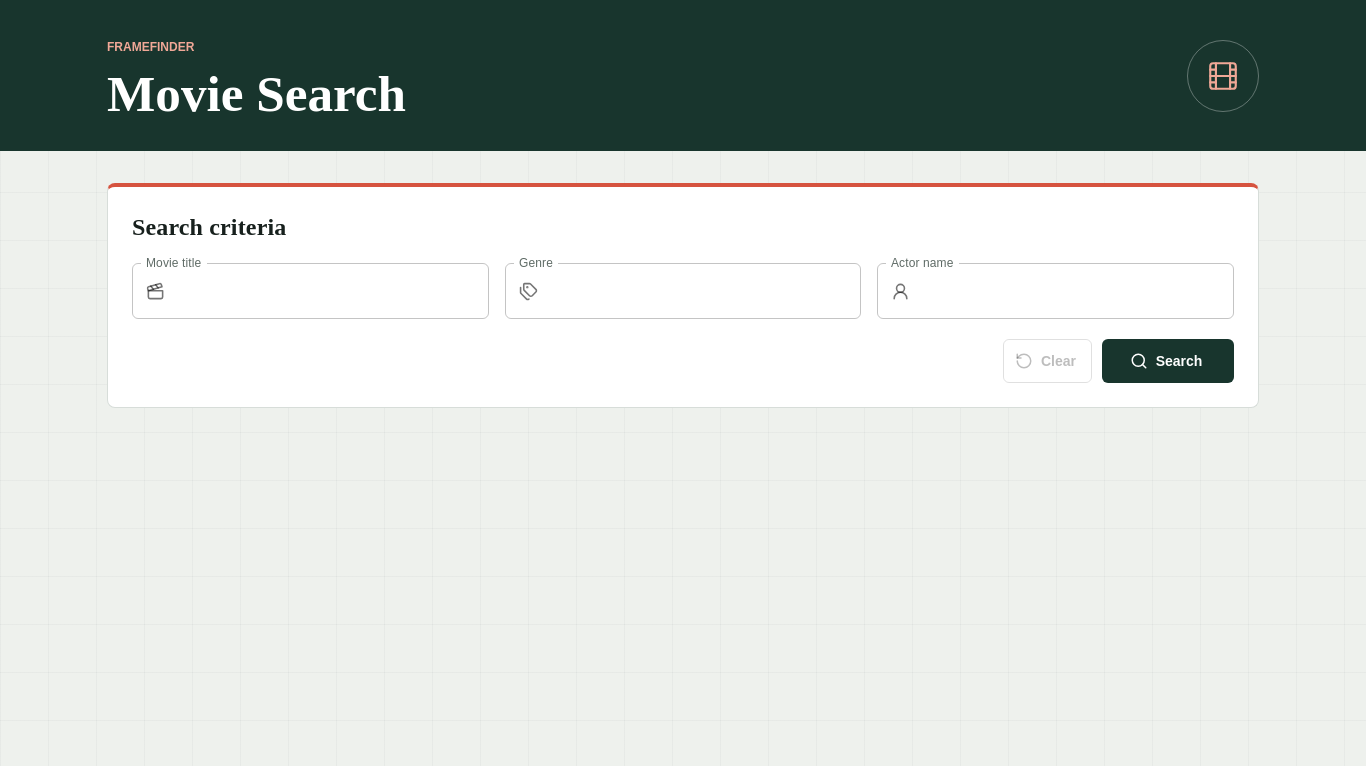
it: MovieSearchPage › recovers from a details error when another movie is selected
What coordinates should you click on to do the following:
click the button "Search"
I would click on:
 (1168, 361)
Its box is [1102,339,1234,383].
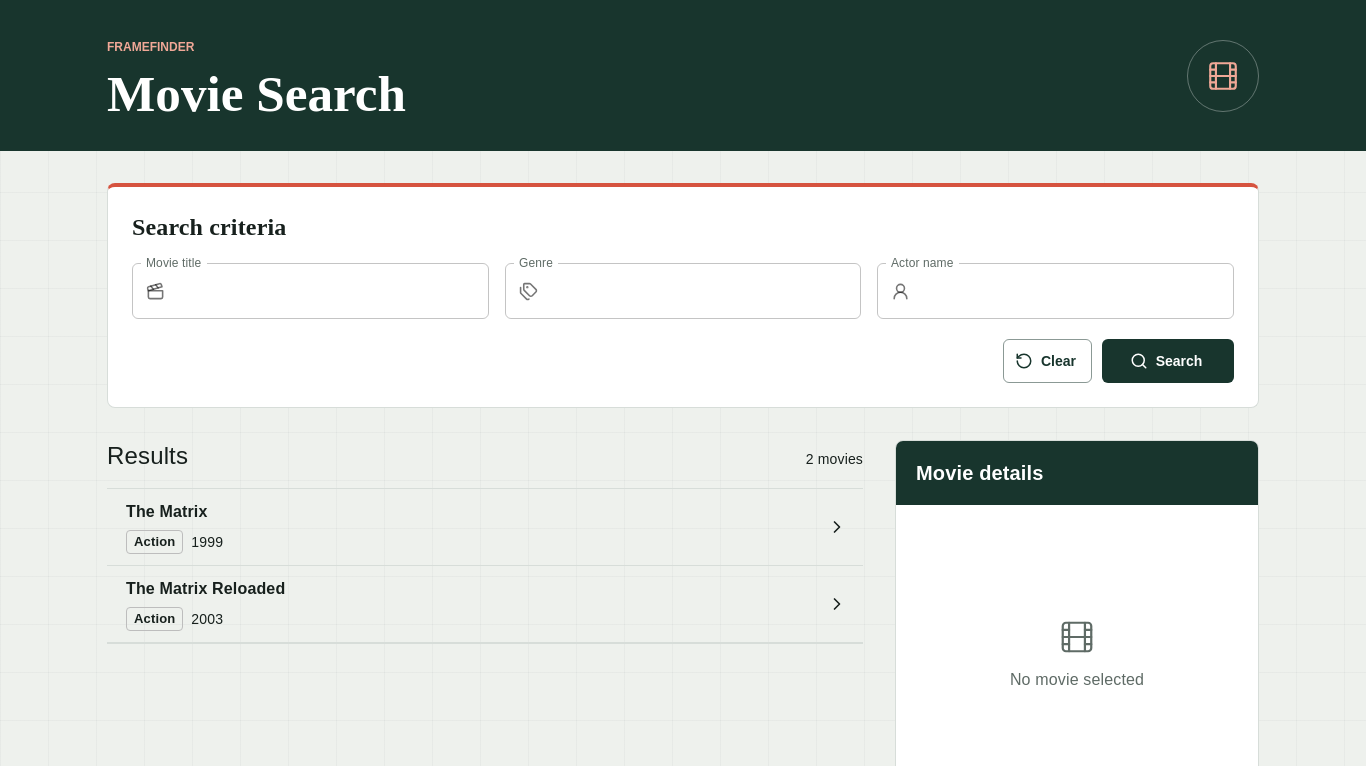
What coordinates should you click on to do the following:
click the button with aria-label "View details for The Matrix"
I would click on:
 (167, 512)
Its box is [107,489,863,565].
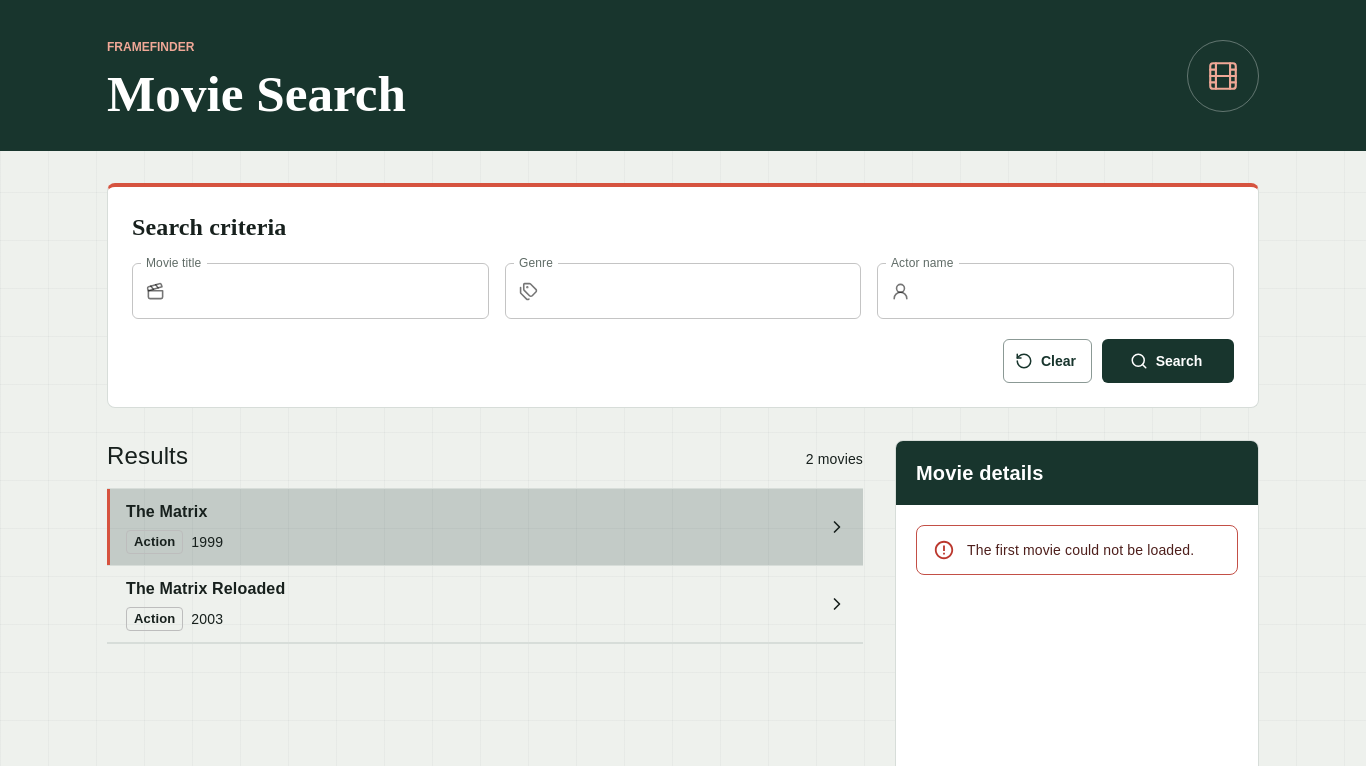
Now the message reads "The first movie could not be loaded.", box [967,542,1194,558]
What coordinates should you click on to do the following:
click the button with aria-label "View details for The Matrix Reloaded"
I would click on:
 (206, 589)
Its box is [107,566,863,642].
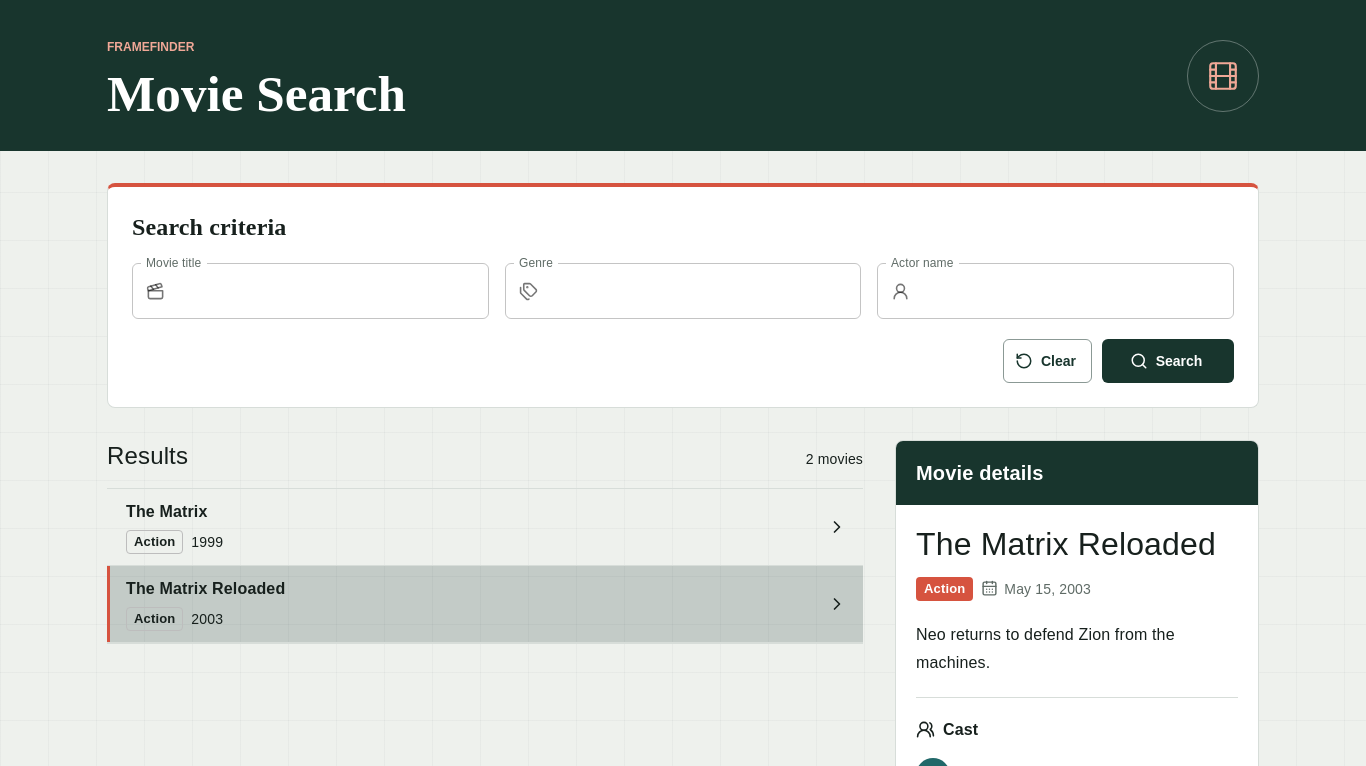
Now the heading "The Matrix Reloaded" is shown, box [916,525,1238,565]
Now the message "The first movie could not be loaded." is gone
